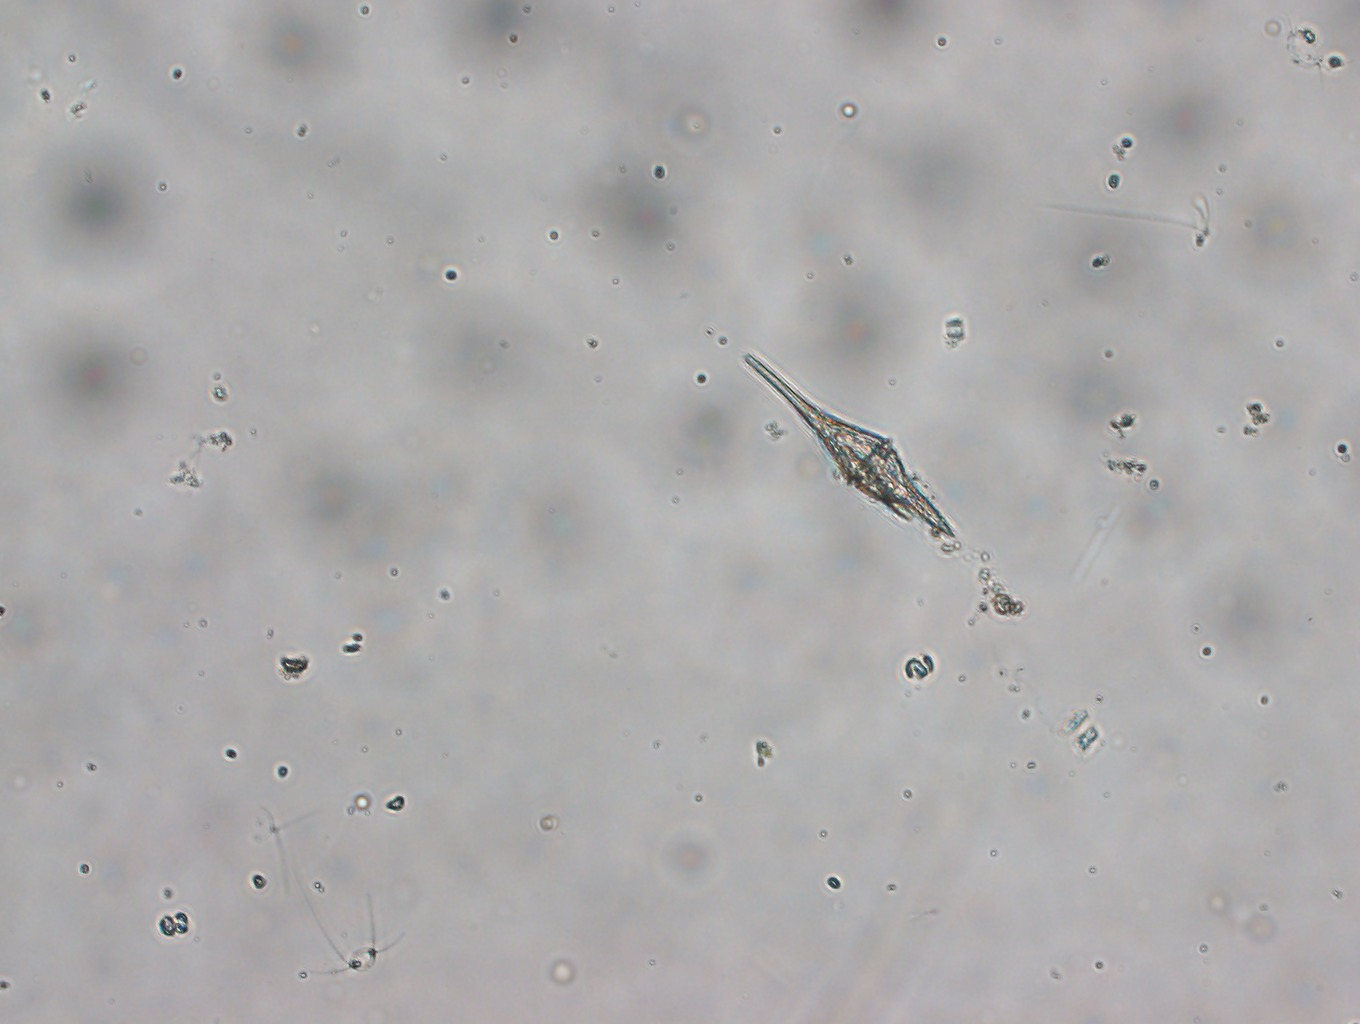ceratium furca: (739, 352, 961, 543)
